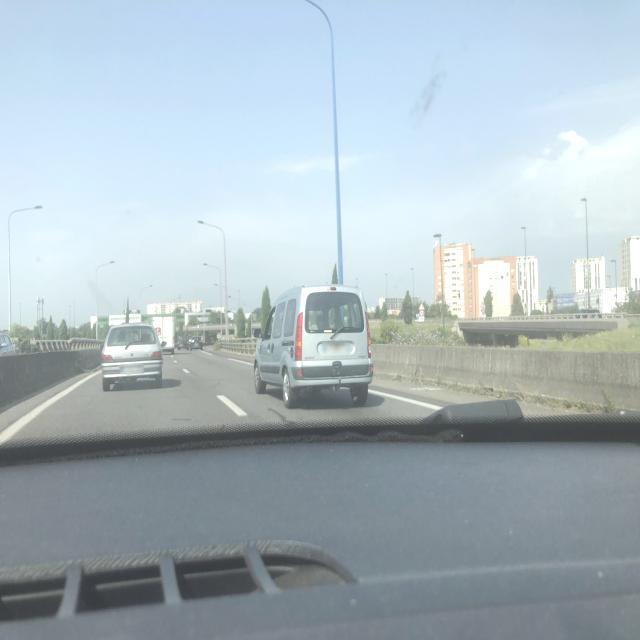car: (252, 283, 374, 408), (100, 321, 164, 392), (0, 331, 17, 361), (188, 335, 204, 351)
